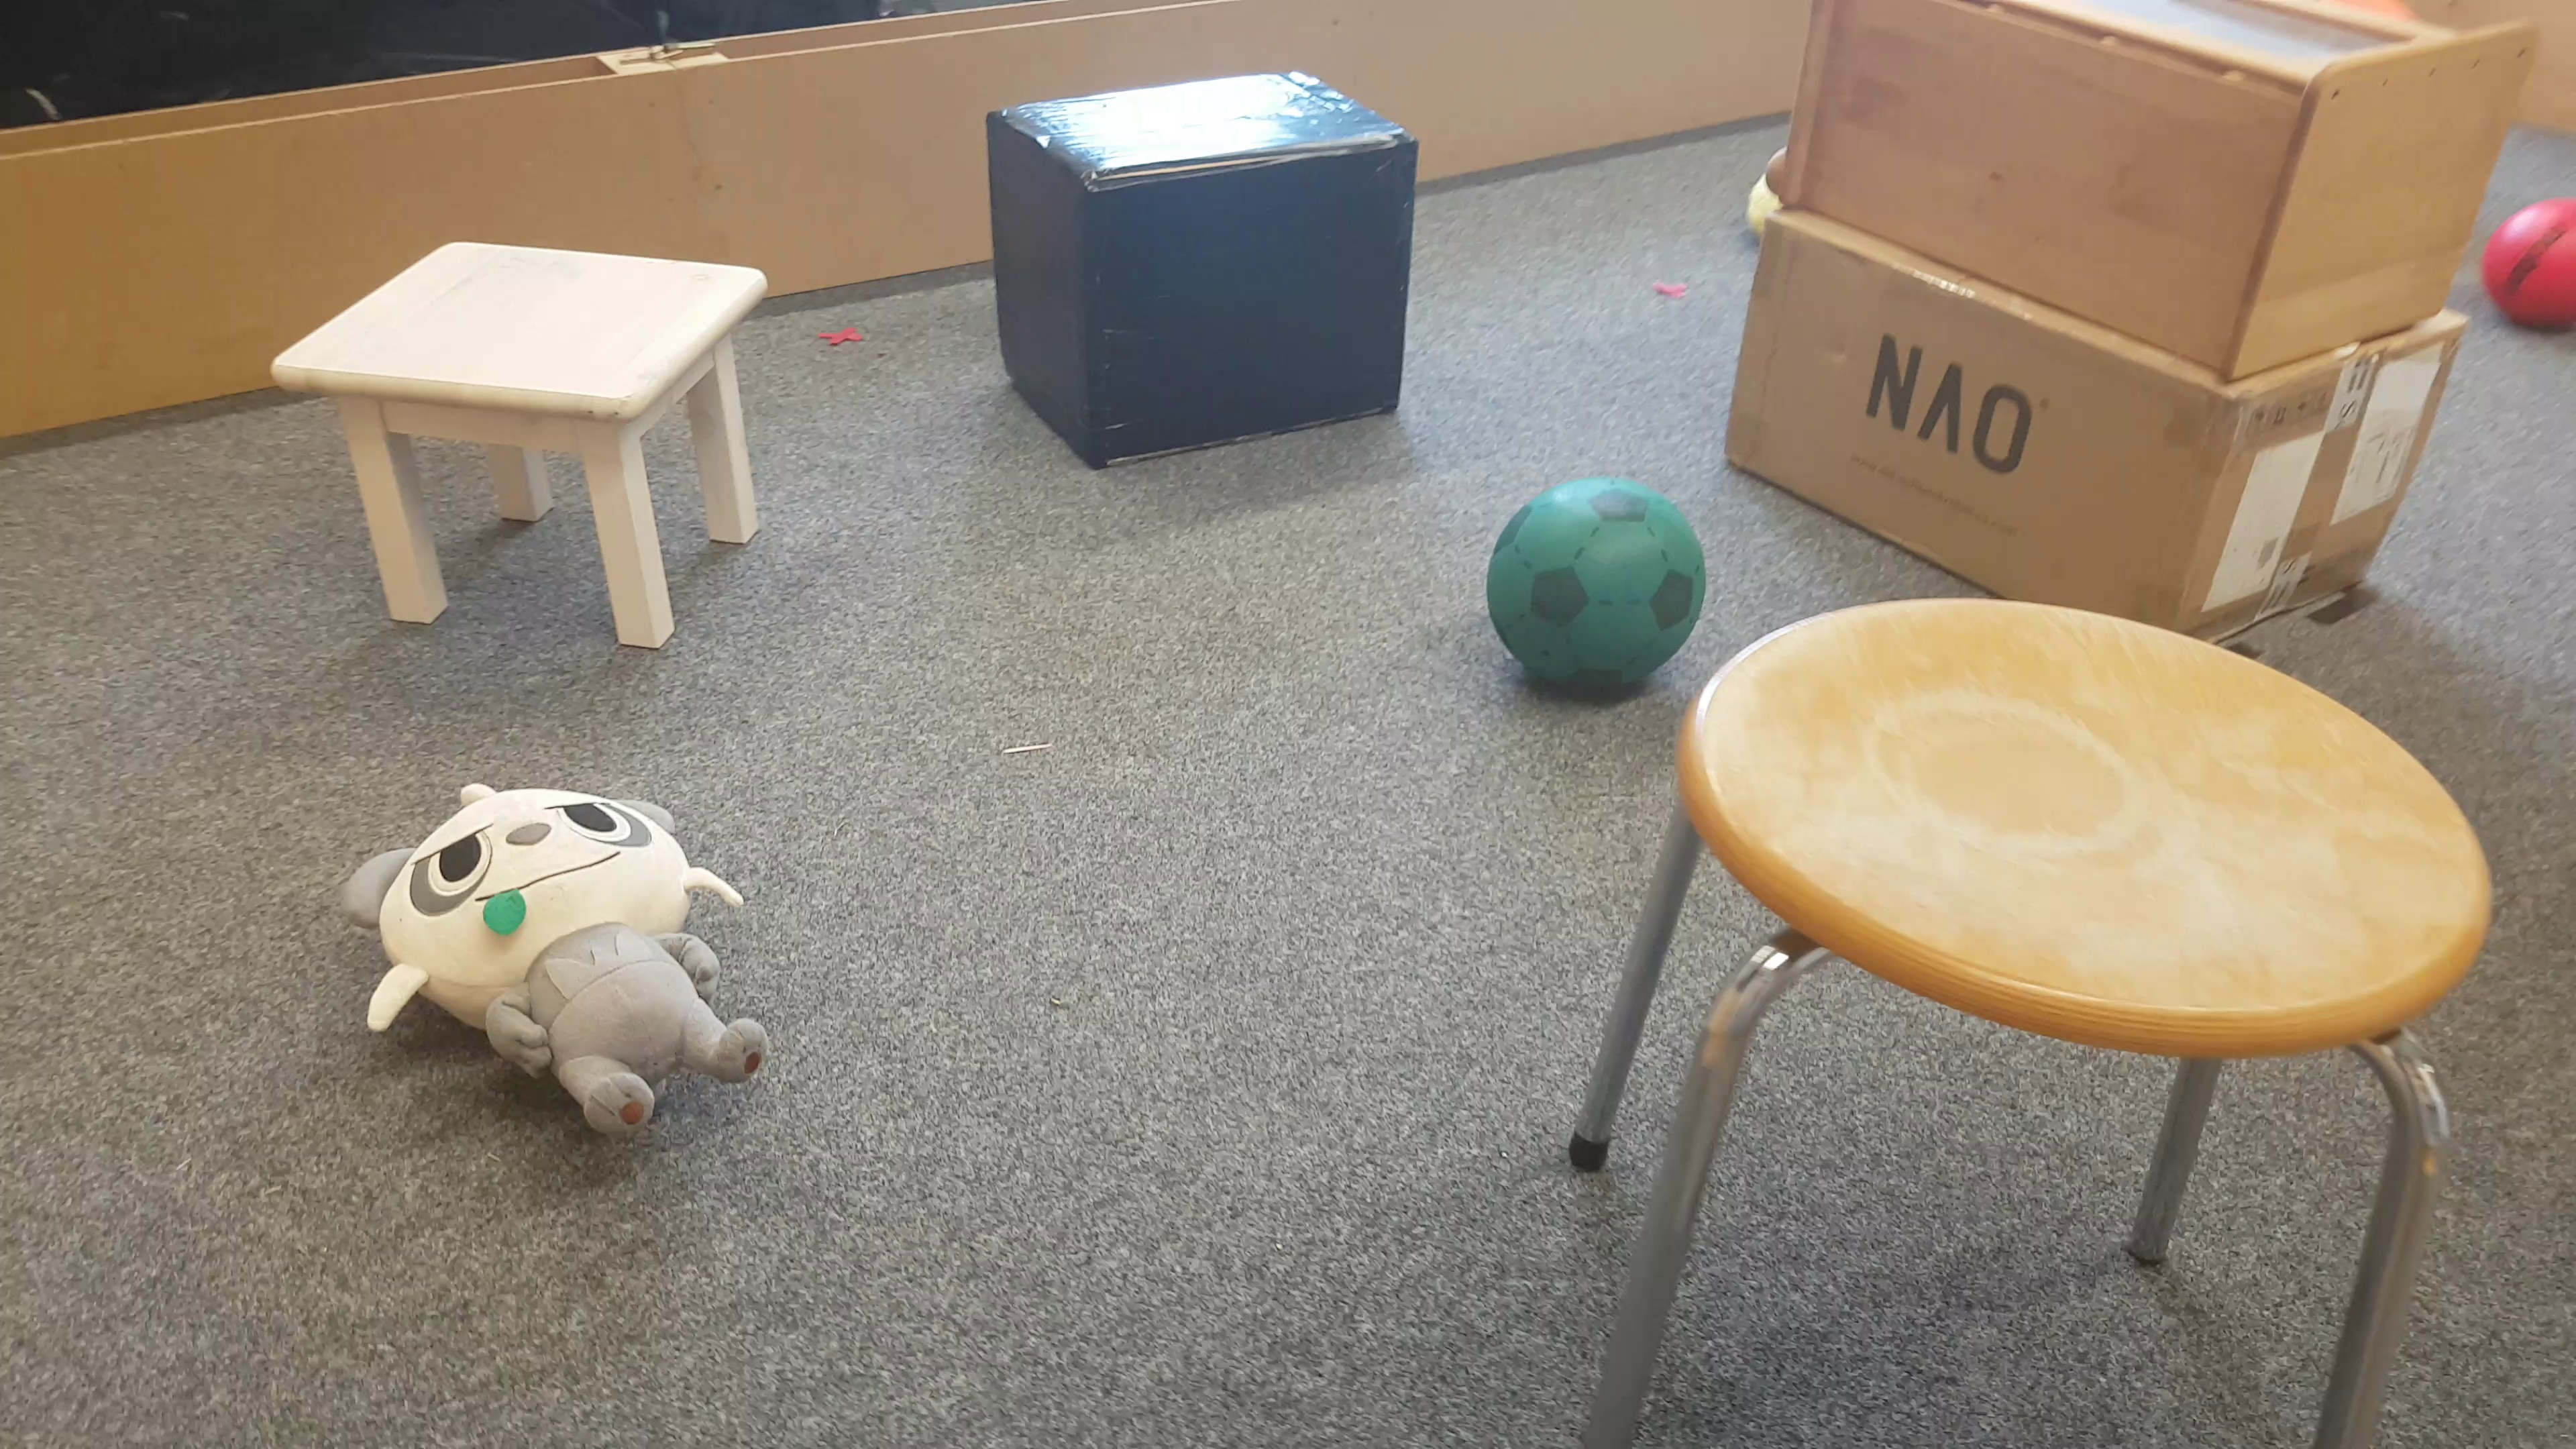grasp: (338, 780, 777, 1131)
kick: (1488, 479, 1704, 702), (2489, 200, 2572, 322)
